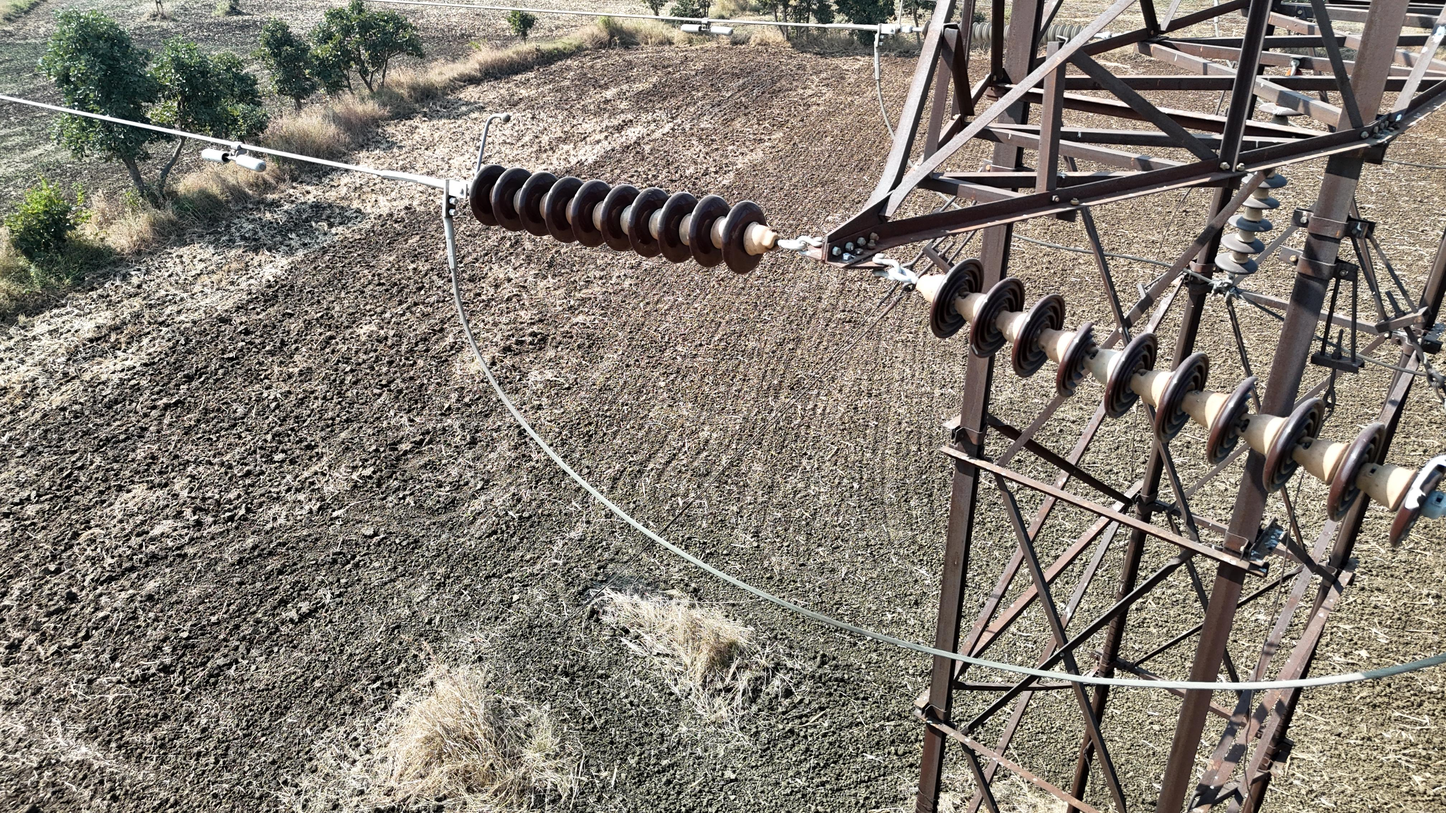broken_insulator: (1383, 435, 1446, 555), (1204, 375, 1258, 467), (1046, 321, 1098, 394)
